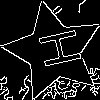H: (28, 26, 82, 73)
